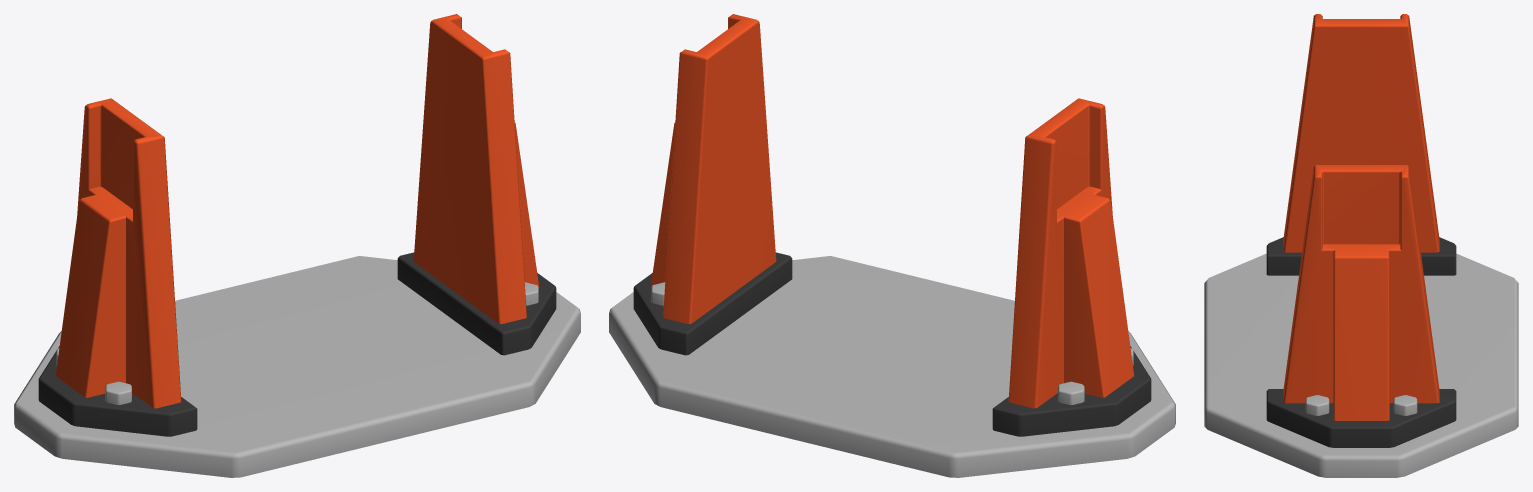
The model's file is meltingpot_002_001.fbx.
The picture shows the model from 3 angles, left to right: view 1: azimuth 30°, elevation 25°; view 2: azimuth 150°, elevation 25°; view 3: azimuth 270°, elevation 25°; orthographic projection. The views are drawn at different scales.
Visible parts, largest first — view 1: meltingpot_002_001; view 2: meltingpot_002_001; view 3: meltingpot_002_001.
Part boxes in pixels (bbox=[...]): meltingpot_002_001: bbox=[14, 14, 580, 477]; meltingpot_002_001: bbox=[609, 14, 1175, 477]; meltingpot_002_001: bbox=[1204, 14, 1518, 477].
Bounding box in the file's own units: 1157 × 671 × 632.
